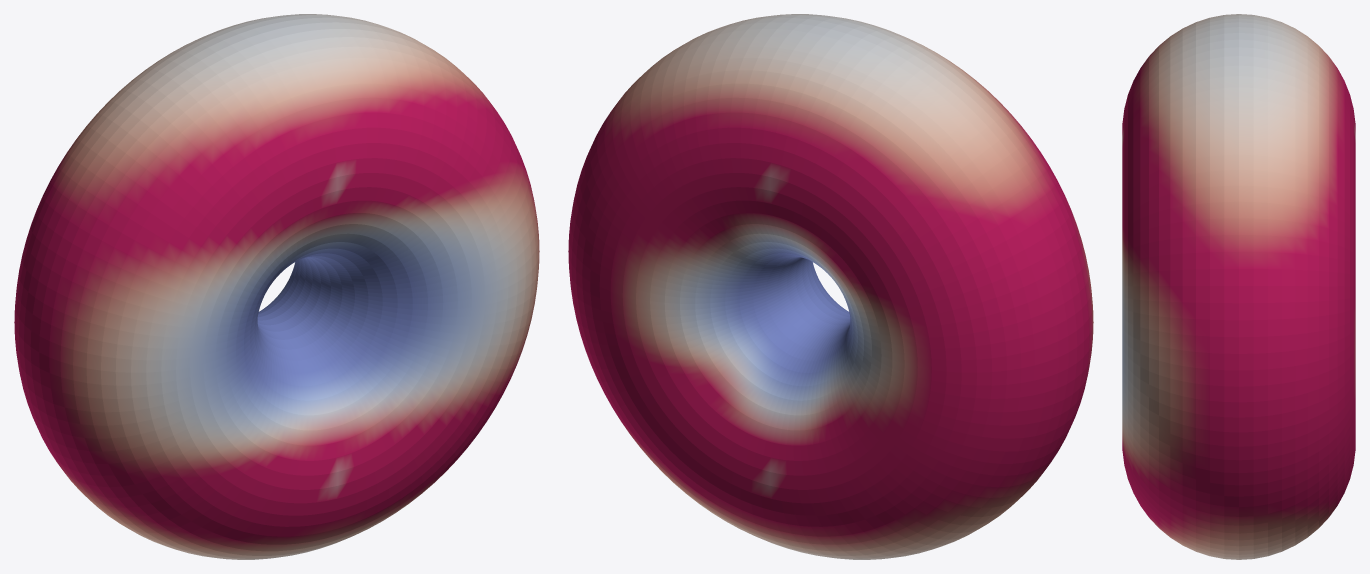
3 views of the same model, side by side, from view 1: azimuth 30°, elevation 25°; view 2: azimuth 150°, elevation 25°; view 3: azimuth 270°, elevation 25° (orthographic). The views are drawn at different scales.
Parts seen in each view (by area): view 1: world; view 2: world; view 3: world.
Boxes of the visible parts, x1=… form: world: x1=14, y1=14, x2=539, y2=559; world: x1=568, y1=14, x2=1093, y2=559; world: x1=1122, y1=14, x2=1355, y2=559.
Size of the model in its own units: 22.13 by 22.13 by 9.45.
